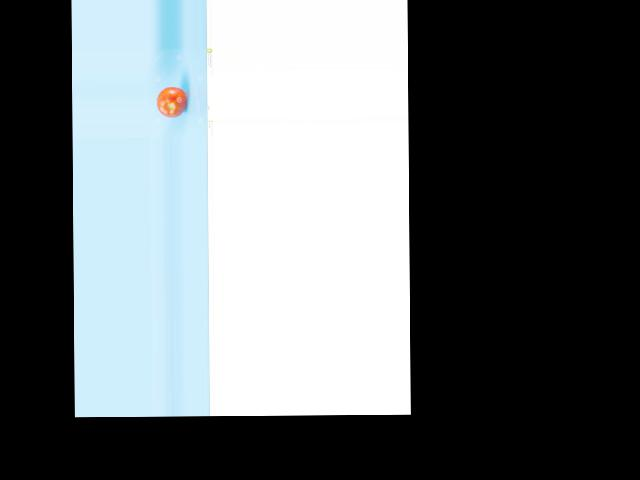tomato: (156, 86, 186, 118)
